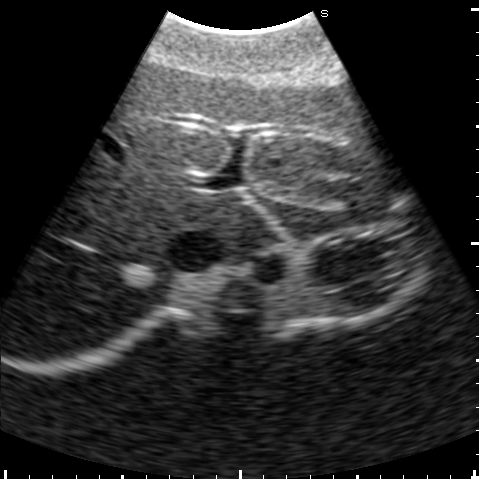IVC: (162, 227, 228, 273)
S1: (218, 203, 274, 262)
S2: (249, 189, 414, 240)
S3: (234, 76, 409, 205)
